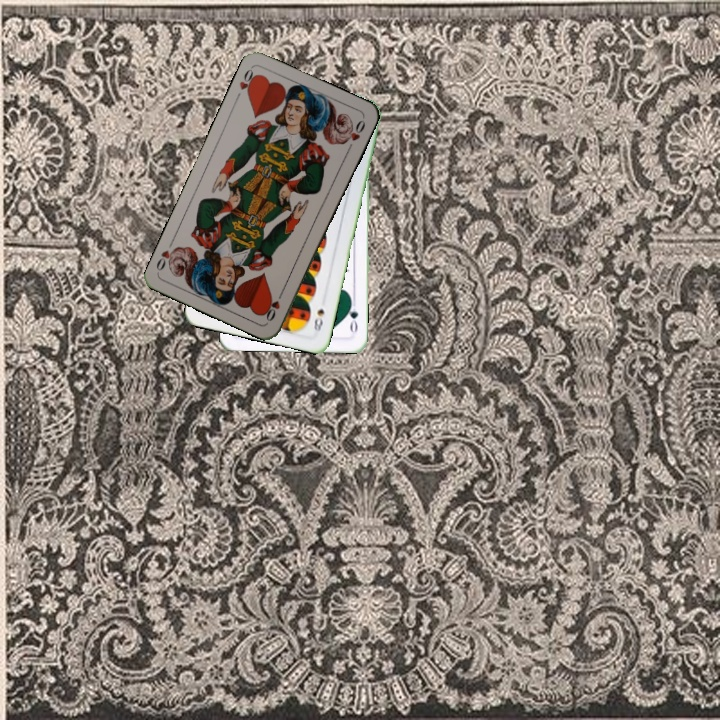GO: (344, 296, 361, 337)
HO: (232, 65, 260, 102), (262, 286, 286, 324)
S8: (310, 305, 327, 336)
